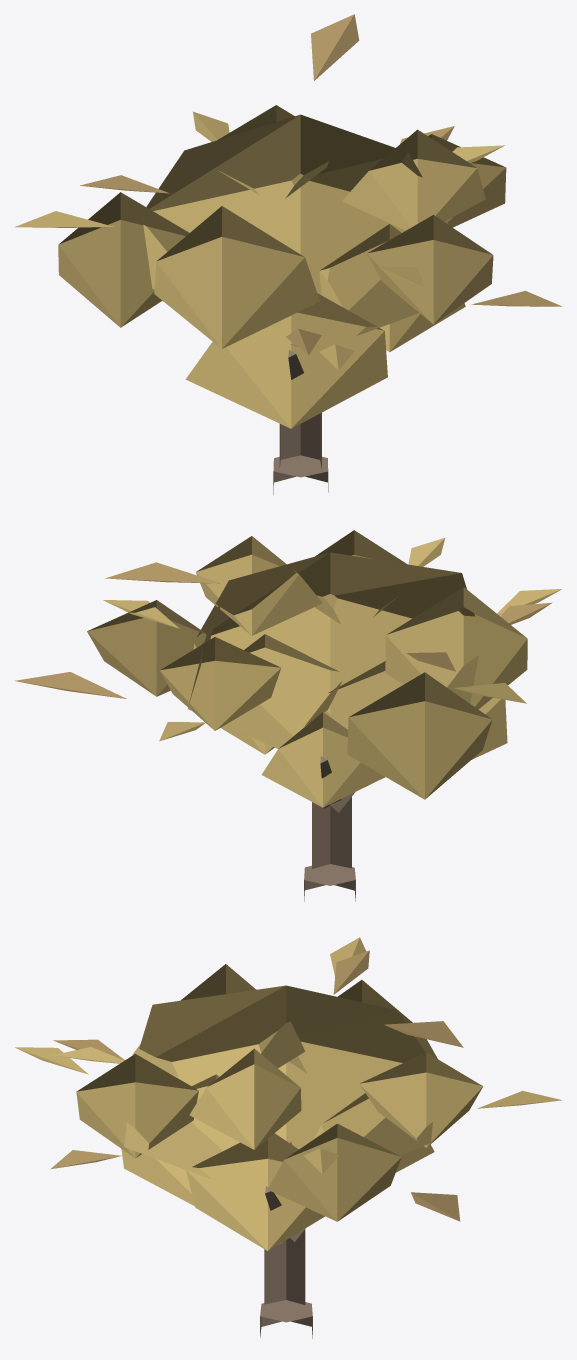
Rendered from shu.ganju@subadult__autumn.glb.
3 views of the same model, one above another, from view 1: azimuth 30°, elevation 25°; view 2: azimuth 150°, elevation 25°; view 3: azimuth 270°, elevation 25° (orthographic). The views are drawn at different scales.
Visible parts, largest first — view 1: shu.ganju@subadult__autumn; view 2: shu.ganju@subadult__autumn; view 3: shu.ganju@subadult__autumn.
Part boxes in pixels (box(x1,y1,x2,y2)): shu.ganju@subadult__autumn: box(14, 14, 562, 494); shu.ganju@subadult__autumn: box(14, 530, 561, 901); shu.ganju@subadult__autumn: box(15, 937, 562, 1338).
Bounding box in the file's own units: 3.91 × 2.82 × 3.95.
